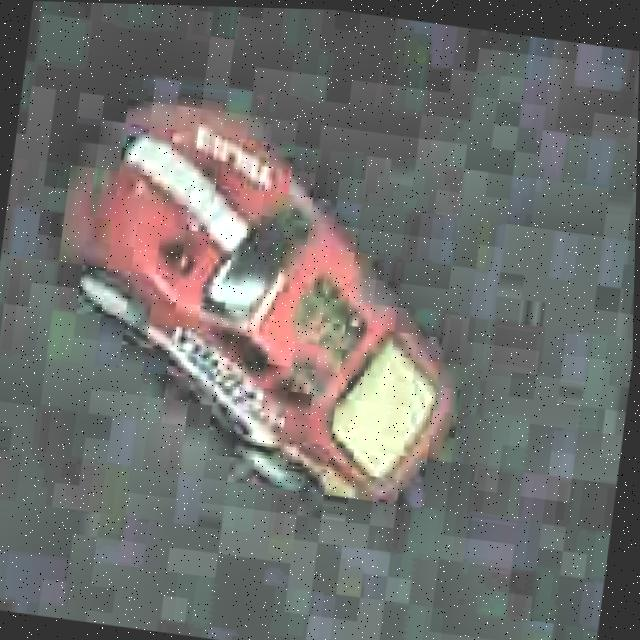car: (21, 85, 494, 523)
